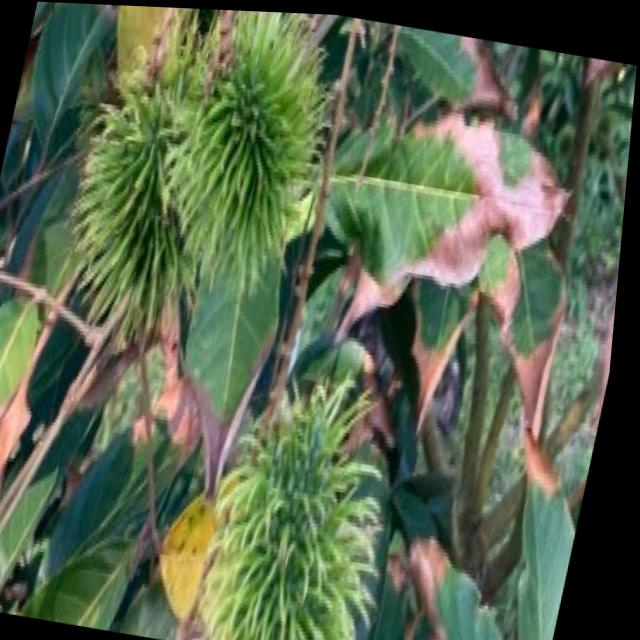Leaf Blight: (357, 43, 638, 527), (144, 306, 304, 507), (0, 374, 101, 619)
